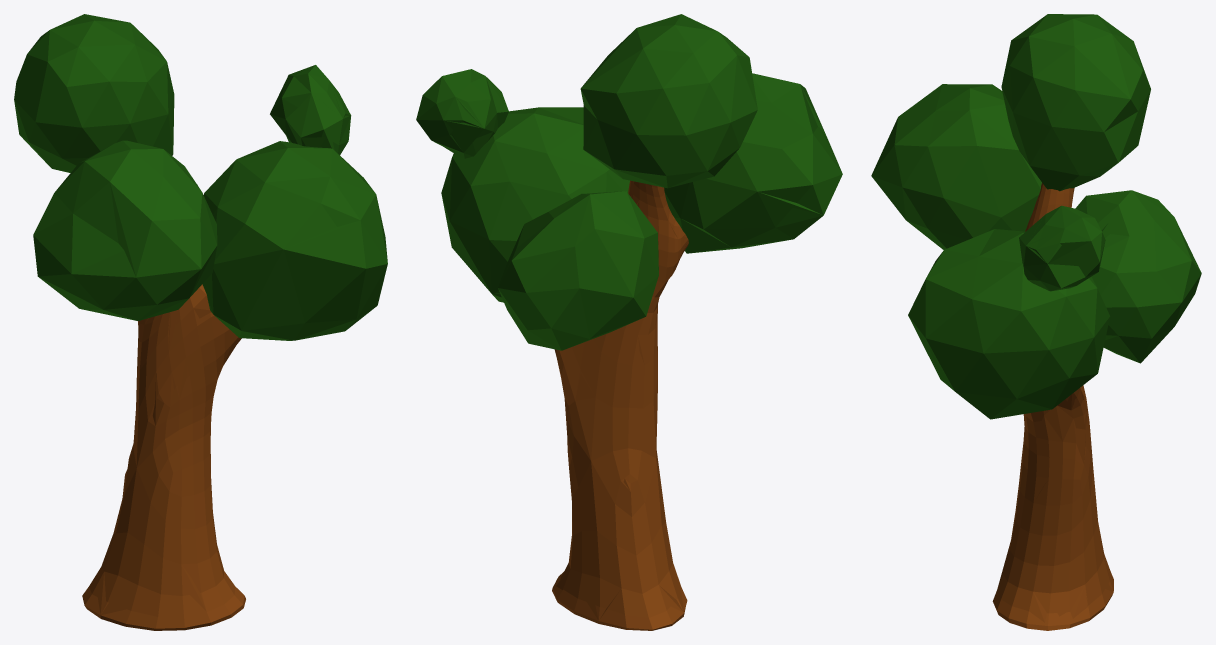
File: Tree5Model.fbx
3 renders of one model, left to right at view 1: azimuth 30°, elevation 25°; view 2: azimuth 150°, elevation 25°; view 3: azimuth 270°, elevation 25°, orthographic. The views are drawn at different scales.
Visible parts, largest first — view 1: Leaves (×2), Tree_2 (×3); view 2: Leaves (×2), Tree_2 (×3); view 3: Leaves (×2), Tree_2 (×3).
Boxes of the visible parts, left/top/right/bottom form: Leaves (×2): left=14, top=14, right=387, bottom=340; Tree_2 (×3): left=82, top=284, right=245, bottom=630; Leaves (×2): left=416, top=14, right=842, bottom=350; Tree_2 (×3): left=552, top=180, right=688, bottom=630; Leaves (×2): left=871, top=14, right=1201, bottom=419; Tree_2 (×3): left=992, top=183, right=1113, bottom=630.
Size of the model in its own units: 682 by 1104 by 597.
